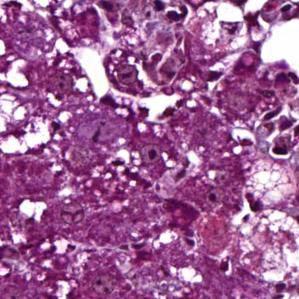ballooning: (235, 208, 299, 285), (0, 92, 54, 159)
